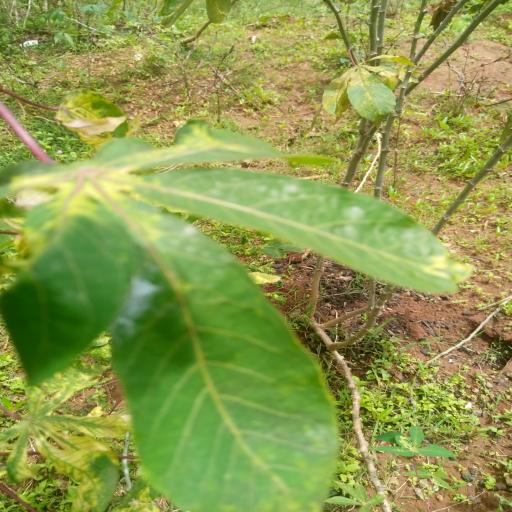Cassava_Mosaic: (0, 113, 471, 512)
